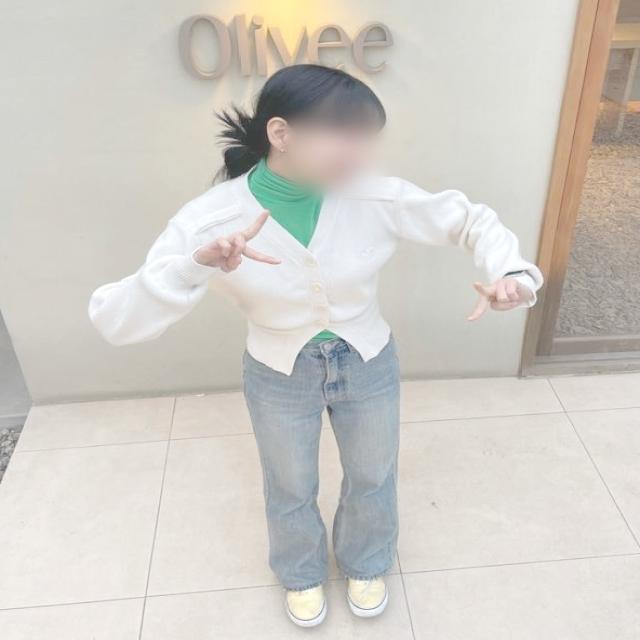cardigan: (90, 170, 542, 380)
denimpants: (243, 332, 401, 588)
